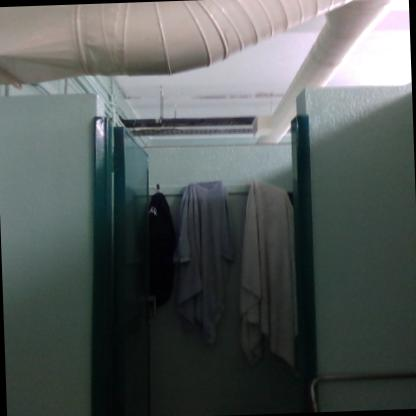open: (80, 86, 334, 410)
